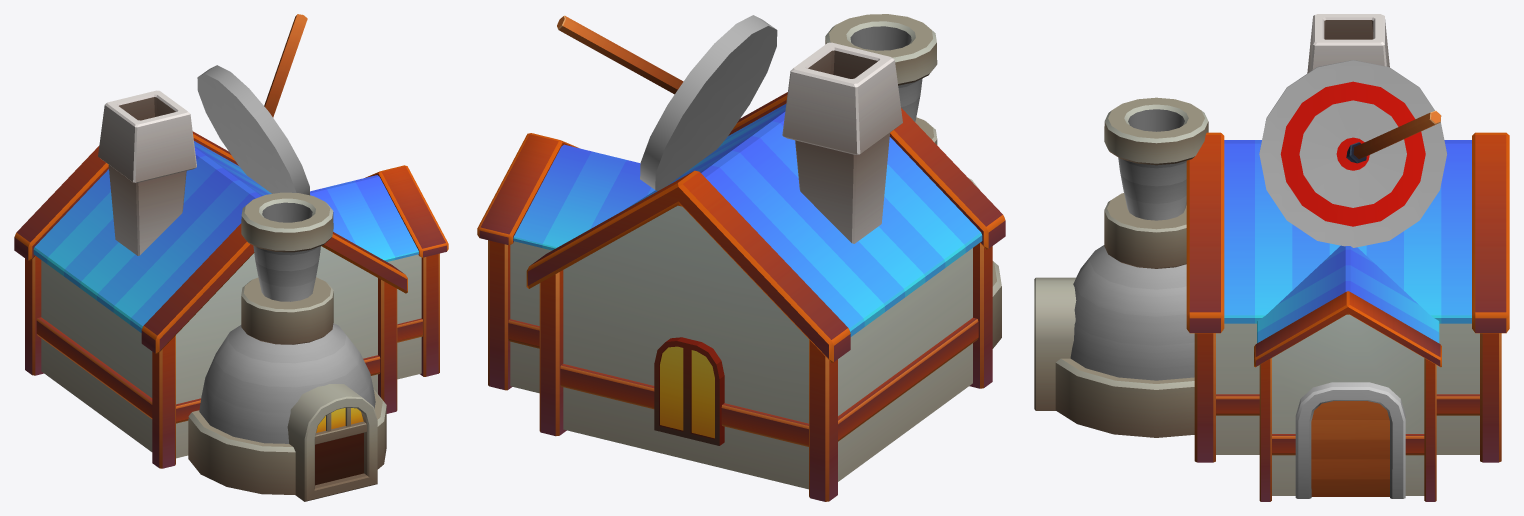
The model's file is Barrack_Archer_2.fbx.
The picture shows the model from 3 angles, left to right: view 1: azimuth 30°, elevation 25°; view 2: azimuth 150°, elevation 25°; view 3: azimuth 270°, elevation 25°; orthographic projection. The views are drawn at different scales.
Parts seen in each view (by area): view 1: Barrack_Archer_Lv2; view 2: Barrack_Archer_Lv2; view 3: Barrack_Archer_Lv2.
Part boxes in pixels (x1,y1,x2,y2): Barrack_Archer_Lv2: (14, 14, 448, 501); Barrack_Archer_Lv2: (477, 14, 1005, 501); Barrack_Archer_Lv2: (1034, 14, 1509, 501).
Size of the model in its own units: 1.04 by 0.9743 by 1.18.
1 material, 1 textured.
